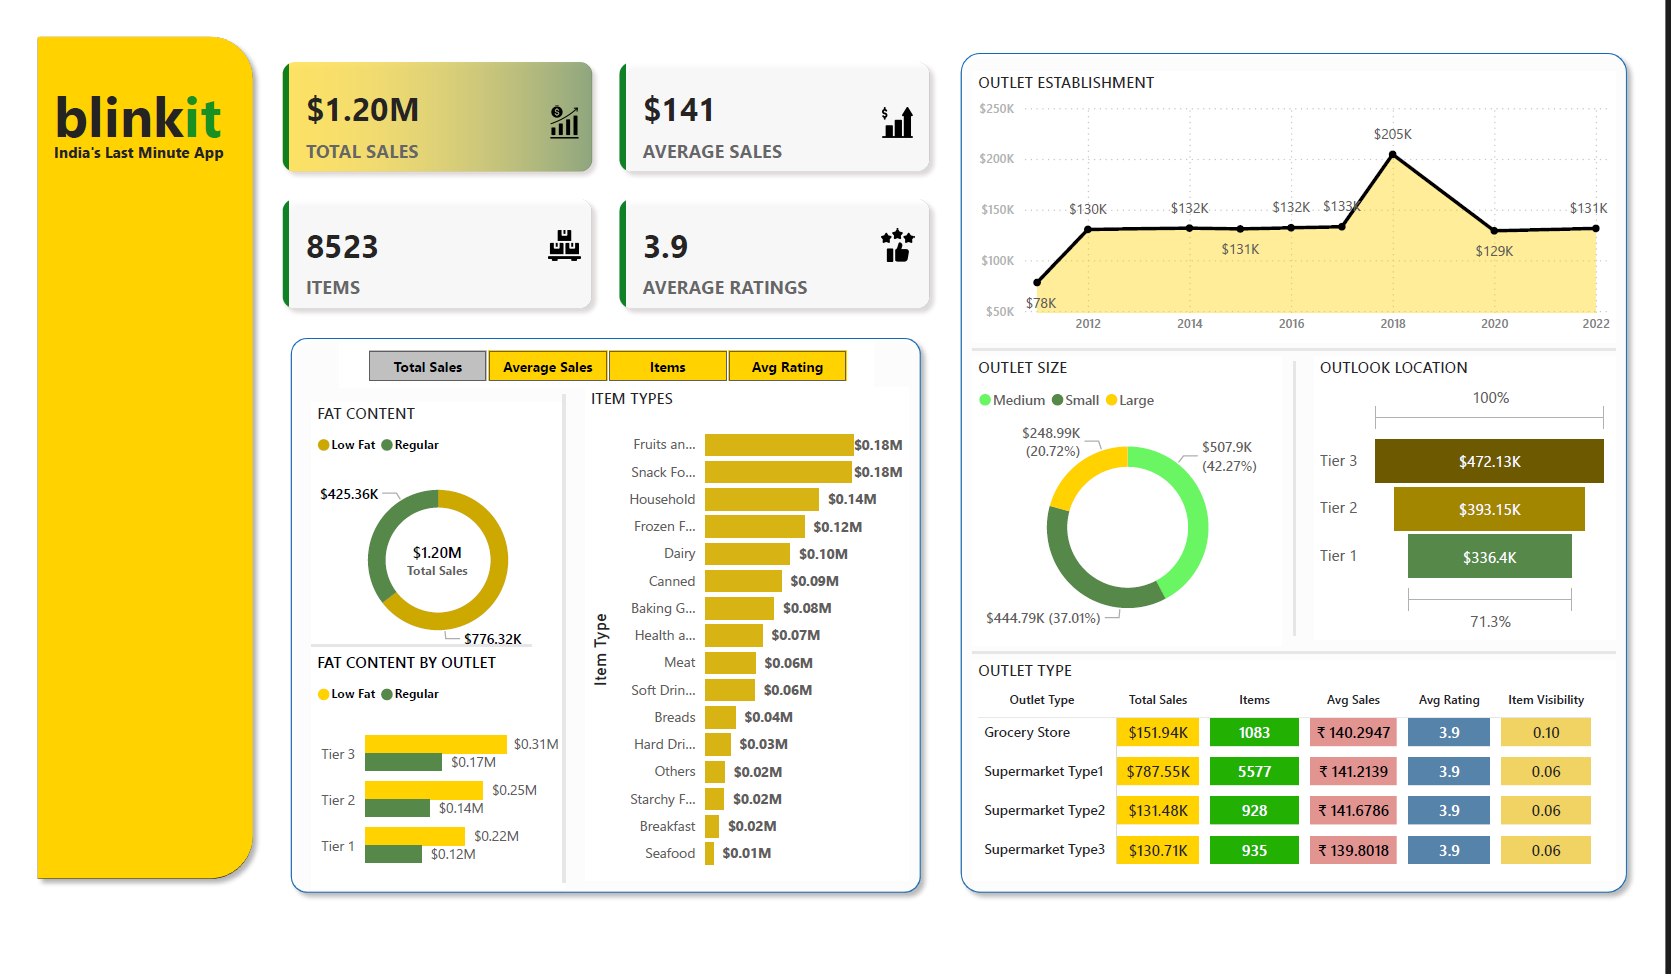

Layout of this report page (visuals, bound fields, positions):
{"tool":"powerbi","page":{"name":"Page 1","canvas":[1400,800],"ordinal":0},"visuals":[{"type":"shape","box":[0,0,204.8,750.4],"z":0},{"type":"textbox","box":[0,39.4,178.1,85.2],"z":1000},{"type":"textbox","box":[17.8,95.4,174.2,29.3],"z":2000},{"type":"cardVisual","fields":{"Data":["BlinkIT Grocery Data.Total_Sales","BlinkIT Grocery Data.Average_Sales","BlinkIT Grocery Data.Items","BlinkIT Grocery Data.Avg_Rating"]},"box":[204.8,14,597.7,248],"z":3000},{"type":"image","box":[447.7,62.3,38.2,40.7],"z":4000},{"type":"image","box":[737.6,62.3,38.2,40.7],"z":5000},{"type":"image","box":[447.7,169.2,38.2,40.7],"z":6000},{"type":"image","box":[737.6,169.2,38.2,40.7],"z":7000},{"type":"shape","box":[204.8,262,597.7,499.8],"z":8000},{"type":"donutChart","title":"FAT CONTENT","fields":{"Y":["BlinkIT Grocery Data.Total Sales"],"Category":["BlinkIT Grocery Data.Item Fat Content"]},"box":[246.7,326.9,220,230.2],"z":9000},{"type":"slicer","fields":{"Values":["Matrix.Matrix"]},"box":[270.9,274.7,465.5,39.4],"z":10000},{"type":"cardVisual","fields":{"Data":["BlinkIT Grocery Data.Total Sales"]},"box":[293.8,426.1,125.9,75],"z":11000},{"type":"clusteredBarChart","title":"FAT CONTENT BY OUTLET","fields":{"Y":["BlinkIT Grocery Data.Total Sales"],"Category":["BlinkIT Grocery Data.Outlet Location Type"],"Series":["BlinkIT Grocery Data.Item Fat Content"]},"box":[246.7,544.3,220,206],"z":12000},{"type":"shape","box":[246.7,531.6,190.8,12.7],"z":13000},{"type":"shape","box":[447.7,320.5,36.9,423.5],"z":14000},{"type":"barChart","title":"ITEM TYPES","fields":{"Y":["BlinkIT Grocery Data.Total Sales"],"Category":["BlinkIT Grocery Data.Item Type"]},"box":[484.6,314.1,281.1,428.6],"z":15000},{"type":"shape","box":[802.5,0,597.7,761.8],"z":16000},{"type":"areaChart","title":"OUTLET ESTABLISHMENT","fields":{"Y":["BlinkIT Grocery Data.Total Sales"],"Category":["BlinkIT Grocery Data.Outlet Establishment Year"]},"box":[821.6,39.4,559.6,235.3],"z":17000},{"type":"shape","box":[821.7,274.7,559.5,12.6],"z":18000},{"type":"donutChart","title":"OUTLET SIZE","fields":{"Y":["BlinkIT Grocery Data.Total Sales"],"Category":["BlinkIT Grocery Data.Outlet Size"]},"box":[821.6,287.4,269.6,250.5],"z":19000},{"type":"funnel","title":"OUTLOOK LOCATION","fields":{"Y":["BlinkIT Grocery Data.Total Sales"],"Category":["BlinkIT Grocery Data.Outlet Location Type"]},"box":[1119.2,287.4,262,245.5],"z":20000},{"type":"shape","box":[1083.6,291.2,36.9,239.1],"z":21000},{"type":"shape","box":[821.6,538,559.6,12.7],"z":22000},{"type":"pivotTable","title":"OUTLET TYPE","fields":{"Rows":["BlinkIT Grocery Data.Outlet Type"],"Values":["BlinkIT Grocery Data.Total Sales","BlinkIT Grocery Data.Items","BlinkIT Grocery Data.Average Sales","BlinkIT Grocery Data.Avg Rating","Avg(BlinkIT Grocery Data.Item Visibility)"]},"box":[821.6,550.7,559.6,192],"z":23000},{"type":"shape","box":[652.4,14,300.1,736.4],"z":24000},{"type":"shape","box":[214.9,0,587.6,512.5],"z":25000}]}

Visuals, with their boxes in screenshot pixels (x1, y1, x2, y2), scaled from the page's 1400x800 canvas onto the 1671x975 screenshot:
shape: 0/0/244/915
textbox: 0/48/213/152
textbox: 21/116/229/152
cardVisual - BlinkIT Grocery Data.Total_Sales x BlinkIT Grocery Data.Average_Sales: 244/17/958/319
image: 534/76/580/126
image: 880/76/926/126
image: 534/206/580/256
image: 880/206/926/256
shape: 244/319/958/928
"FAT CONTENT" donutChart: 294/398/557/679
slicer - Matrix.Matrix: 323/335/879/383
cardVisual - BlinkIT Grocery Data.Total Sales: 351/519/501/611
"FAT CONTENT BY OUTLET" clusteredBarChart: 294/663/557/914
shape: 294/648/522/663
shape: 534/391/578/907
"ITEM TYPES" barChart: 578/383/914/905
shape: 958/0/1670/928
"OUTLET ESTABLISHMENT" areaChart: 981/48/1649/335
shape: 981/335/1649/350
"OUTLET SIZE" donutChart: 981/350/1302/656
"OUTLOOK LOCATION" funnel: 1336/350/1649/649
shape: 1293/355/1337/646
shape: 981/656/1649/671
"OUTLET TYPE" pivotTable: 981/671/1649/905
shape: 779/17/1137/915
shape: 256/0/958/625
